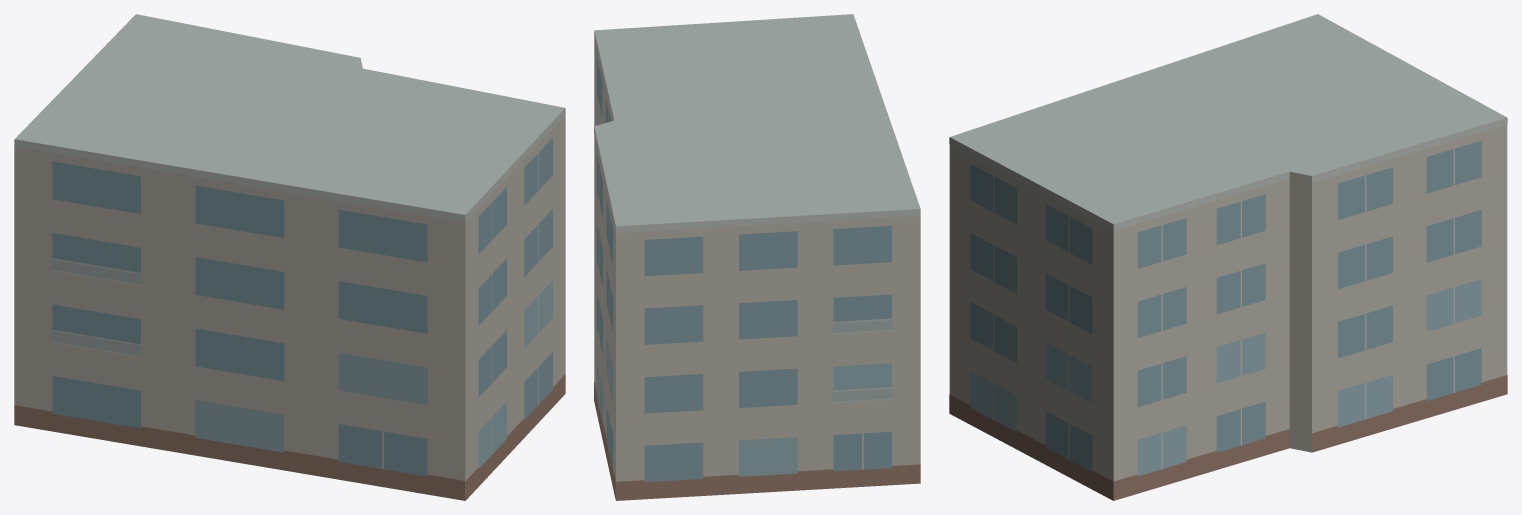
File: survey-upis-33043503.glb
3 views of the same model, side by side, from view 1: azimuth 30°, elevation 25°; view 2: azimuth 150°, elevation 25°; view 3: azimuth 270°, elevation 25° (orthographic). The views are drawn at different scales.
Parts seen in each view (by area): view 1: survey-upis-33043503.tmp; view 2: survey-upis-33043503.tmp; view 3: survey-upis-33043503.tmp.
Part boxes in pixels (<box>): survey-upis-33043503.tmp: <box>14,14,565,500</box>; survey-upis-33043503.tmp: <box>594,14,920,500</box>; survey-upis-33043503.tmp: <box>949,14,1507,500</box>.
Size of the model in its own units: 15.83 by 9.7 by 17.74.
